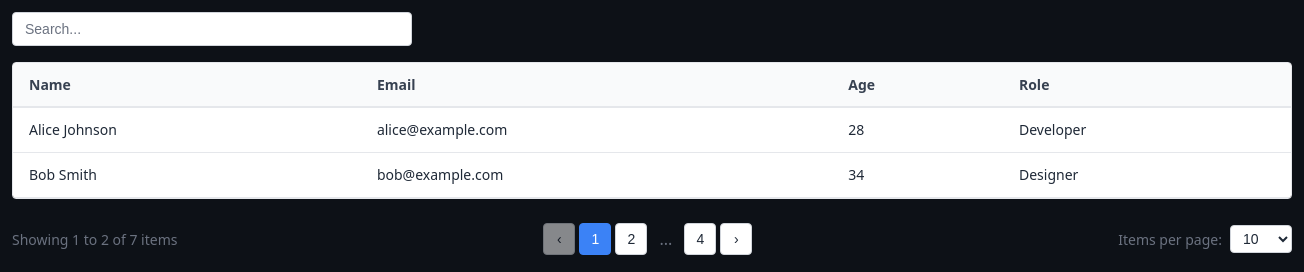
Scenario: UIForgeGrid › Integration Tests › combines search and pagination
// Search reduces results
Type "developer" into the field labelled "Search".
click(212, 29); type("developer")  # box [12,12,412,46]
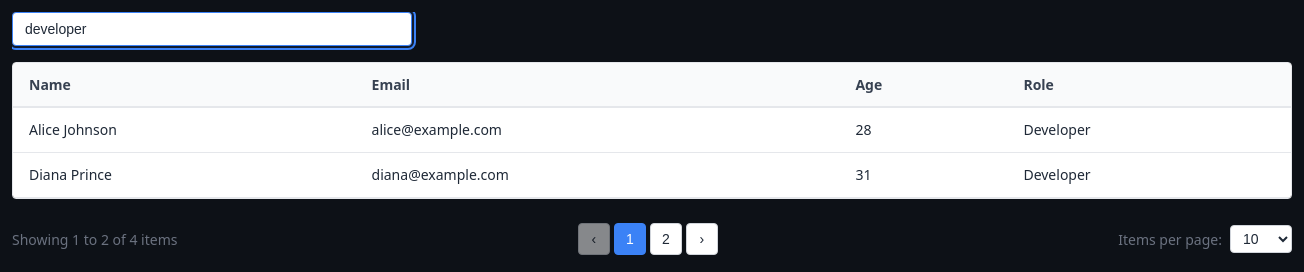
Expected: the text "Alice Johnson" is shown, [29,120,117,139]
Expected: the text "Diana Prince" is shown, [29,165,112,184]
Expected: the text "Showing 1 to 2 of 4 items" is shown, [12,230,178,248]
